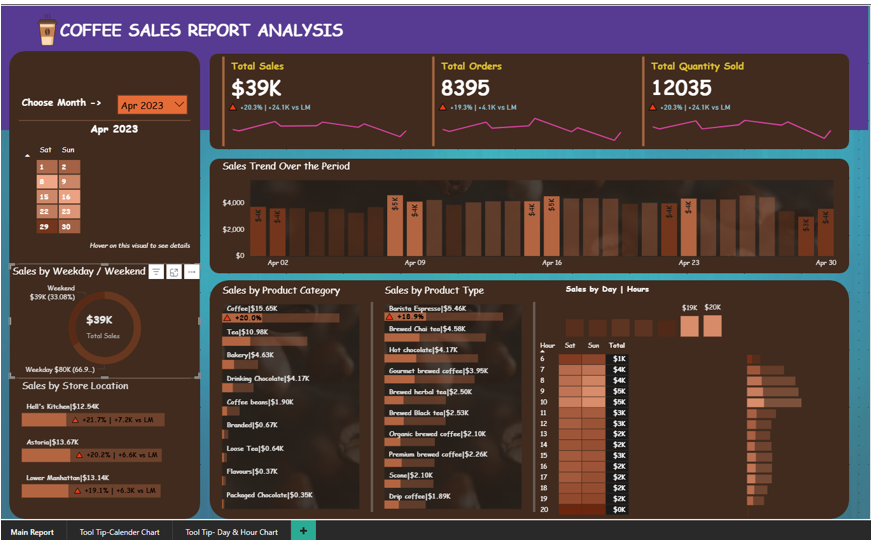

Layout of this report page (visuals, bound fields, positions):
{"tool":"powerbi","page":{"name":"Main Report","canvas":[1460,860],"ordinal":0},"visuals":[{"type":"shape","box":[0,0,1456,208],"z":0},{"type":"shape","box":[16,76,320,784],"z":1000},{"type":"shape","box":[352,80,1072,160],"z":2000},{"type":"textbox","box":[96,16,496,48],"z":3000},{"type":"cardVisual","fields":{"Data":["Transactions.Total Sales","Transactions.Total Sales"]},"box":[368,80,328,160],"z":4000,"group":"g1"},{"type":"cardVisual","fields":{"Data":["Transactions.Total Orders"]},"box":[720,80,336,160],"z":4000,"group":"g2"},{"type":"cardVisual","fields":{"Data":["Transactions.Total Quantity Sold"]},"box":[1072,80,336,160],"z":4000,"group":"g3"},{"type":"slicer","fields":{"Values":["Date Table.Month Year"]},"box":[192,144,128,48],"z":4000},{"type":"group","id":"g1","title":"Group 1","box":[368,80,328,160],"z":5000},{"type":"group","id":"g2","title":"Group 1","box":[720,80,336,160],"z":6000},{"type":"lineChart","fields":{"Category":["Date Table.Date.Variation.Date Hierarchy.Year","Date Table.Date.Variation.Date Hierarchy.Quarter","Date Table.Date.Variation.Date Hierarchy.Month","Date Table.Date.Variation.Date Hierarchy.Day"],"Y":["Transactions.Total Sales"]},"box":[376.6,160,319.4,80],"z":6000,"group":"g1"},{"type":"lineChart","fields":{"Category":["Date Table.Date.Variation.Date Hierarchy.Year","Date Table.Date.Variation.Date Hierarchy.Quarter","Date Table.Date.Variation.Date Hierarchy.Month","Date Table.Date.Variation.Date Hierarchy.Day"],"Y":["Transactions.Total Orders"]},"box":[728.8,160,327.2,80],"z":6000,"group":"g2"},{"type":"lineChart","fields":{"Category":["Date Table.Date.Variation.Date Hierarchy.Year","Date Table.Date.Variation.Date Hierarchy.Quarter","Date Table.Date.Variation.Date Hierarchy.Month","Date Table.Date.Variation.Date Hierarchy.Day"],"Y":["Transactions.Total Quantity Sold"]},"box":[1080.8,160,327.2,80],"z":6000,"group":"g3"},{"type":"group","id":"g3","title":"Group 1","box":[1072,80,336,160],"z":7000},{"type":"shape","box":[352,256,1072,192],"z":8000},{"type":"pivotTable","fields":{"Rows":["Date Table.Week Number"],"Columns":["Date Table.Day Name"],"Values":["Min(Date Table.Day Number)"]},"box":[32,224,288,208],"z":9000},{"type":"cardVisual","fields":{"Data":["Transactions.Foot Note"]},"box":[128,368,208,48],"z":10000},{"type":"card","fields":{"Values":["Min(Date Table.Month Year)"]},"box":[144,192,96,32],"z":11000},{"type":"shape","box":[32,416,288,32],"z":12000},{"type":"shape","box":[32,608,288,32],"z":13000},{"type":"shape","box":[32,176,288,32],"z":14000},{"type":"donutChart","title":"Sales by Weekday / Weekend","fields":{"Category":["Date Table.Weekday / Weekend"],"Y":["Transactions.Total Sales"]},"box":[16,432,320,192],"z":15000},{"type":"cardVisual","fields":{"Data":["Transactions.Total Sales"]},"box":[128,496,96,80],"z":16000},{"type":"clusteredBarChart","title":"Sales by Store Location","fields":{"Category":["Transactions.store_location"],"Y":["Transactions.Placeholder","Transactions.Total Sales"]},"box":[32,624,288,208],"z":17000},{"type":"columnChart","title":"Sales Trend Over the Period","fields":{"Category":["Transactions.transaction_date"],"Y":["Transactions.Total Sales"]},"box":[368,256,1040,192],"z":18000},{"type":"shape","box":[352,460,1072,400],"z":19000},{"type":"clusteredBarChart","title":"Sales by Product Category","fields":{"Y":["Transactions.Placeholder","Transactions.Total Sales"],"Category":["Transactions.product_category"]},"box":[368,464,240,384],"z":20000},{"type":"shape","box":[608,496,32,352],"z":21000},{"type":"clusteredBarChart","title":"Sales by Product Type","fields":{"Y":["Transactions.Placeholder","Transactions.Total Sales"],"Category":["Transactions.product_type"]},"box":[640,464,240,384],"z":22000},{"type":"shape","box":[880,496,32,352],"z":23000},{"type":"pivotTable","fields":{"Rows":["Transactions.Hour"],"Columns":["Date Table.Day Name"],"Values":["Transactions.Total Sales"]},"box":[896,556,368,304],"z":24000},{"type":"barChart","fields":{"Category":["Transactions.Hour"],"Y":["Transactions.Total Sales"]},"box":[1248,572,128,288],"z":25000},{"type":"columnChart","title":"Sales by Day | Hours","fields":{"Y":["Transactions.Total Sales"],"Category":["Date Table.Day Name"]},"box":[944,464,272,96],"z":26000},{"type":"textbox","box":[32,144,160,48],"z":27000},{"type":"image","box":[48,0,64,80],"z":28000}]}

Visuals, with their boxes on the page's 1460x860 design canvas (x1, y1, x2, y2). These are canvas units, not pixel positions in the 871x541 screenshot, which may show the page scaled, cropped or inside an application window:
shape: <bbox>0, 0, 1456, 208</bbox>
shape: <bbox>16, 76, 336, 860</bbox>
shape: <bbox>352, 80, 1424, 240</bbox>
textbox: <bbox>96, 16, 592, 64</bbox>
cardVisual - Transactions.Total Sales x Transactions.Total Sales: <bbox>368, 80, 696, 240</bbox>
cardVisual - Transactions.Total Orders: <bbox>720, 80, 1056, 240</bbox>
cardVisual - Transactions.Total Quantity Sold: <bbox>1072, 80, 1408, 240</bbox>
slicer - Date Table.Month Year: <bbox>192, 144, 320, 192</bbox>
"Group 1" group: <bbox>368, 80, 696, 240</bbox>
"Group 1" group: <bbox>720, 80, 1056, 240</bbox>
lineChart - Date Table.Date.Variation.Date Hierarchy.Year x Date Table.Date.Variation.Date Hierarchy.Quarter: <bbox>377, 160, 696, 240</bbox>
lineChart - Date Table.Date.Variation.Date Hierarchy.Year x Date Table.Date.Variation.Date Hierarchy.Quarter: <bbox>729, 160, 1056, 240</bbox>
lineChart - Date Table.Date.Variation.Date Hierarchy.Year x Date Table.Date.Variation.Date Hierarchy.Quarter: <bbox>1081, 160, 1408, 240</bbox>
"Group 1" group: <bbox>1072, 80, 1408, 240</bbox>
shape: <bbox>352, 256, 1424, 448</bbox>
pivotTable - Date Table.Week Number x Date Table.Day Name: <bbox>32, 224, 320, 432</bbox>
cardVisual - Transactions.Foot Note: <bbox>128, 368, 336, 416</bbox>
card - Min(Date Table.Month Year): <bbox>144, 192, 240, 224</bbox>
shape: <bbox>32, 416, 320, 448</bbox>
shape: <bbox>32, 608, 320, 640</bbox>
shape: <bbox>32, 176, 320, 208</bbox>
"Sales by Weekday / Weekend" donutChart: <bbox>16, 432, 336, 624</bbox>
cardVisual - Transactions.Total Sales: <bbox>128, 496, 224, 576</bbox>
"Sales by Store Location" clusteredBarChart: <bbox>32, 624, 320, 832</bbox>
"Sales Trend Over the Period" columnChart: <bbox>368, 256, 1408, 448</bbox>
shape: <bbox>352, 460, 1424, 860</bbox>
"Sales by Product Category" clusteredBarChart: <bbox>368, 464, 608, 848</bbox>
shape: <bbox>608, 496, 640, 848</bbox>
"Sales by Product Type" clusteredBarChart: <bbox>640, 464, 880, 848</bbox>
shape: <bbox>880, 496, 912, 848</bbox>
pivotTable - Transactions.Hour x Date Table.Day Name: <bbox>896, 556, 1264, 860</bbox>
barChart - Transactions.Hour x Transactions.Total Sales: <bbox>1248, 572, 1376, 860</bbox>
"Sales by Day | Hours" columnChart: <bbox>944, 464, 1216, 560</bbox>
textbox: <bbox>32, 144, 192, 192</bbox>
image: <bbox>48, 0, 112, 80</bbox>
